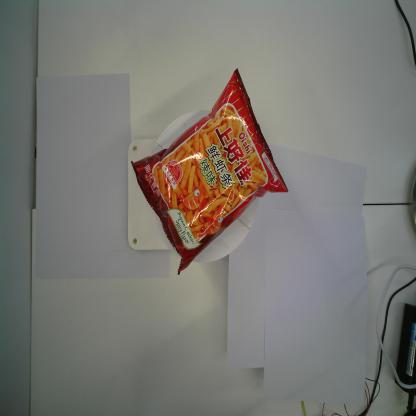Puffed Food: (131, 67, 288, 276)
